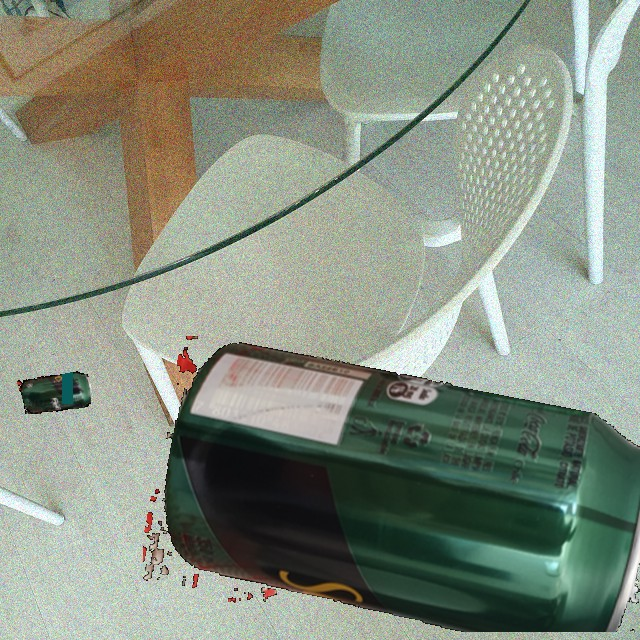schweppes: (143, 336, 640, 632), (16, 367, 91, 414)
